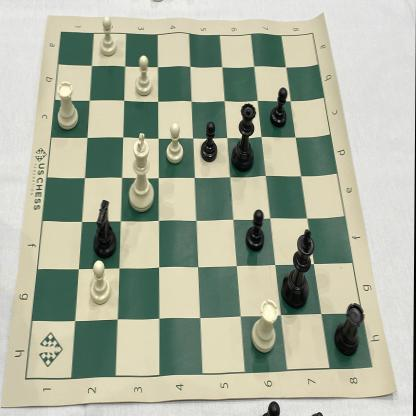black-king: (281, 224, 316, 312)
black-pawn: (243, 207, 266, 256), (269, 85, 290, 129), (199, 120, 219, 164)
black-queen: (229, 100, 259, 174)
black-rook: (333, 300, 365, 358), (91, 198, 118, 258)
white-king: (126, 132, 158, 214)
white-pawn: (87, 260, 113, 306), (164, 120, 185, 166), (134, 54, 154, 100), (97, 14, 117, 58)
white-rook: (249, 298, 280, 358), (53, 79, 81, 133)
